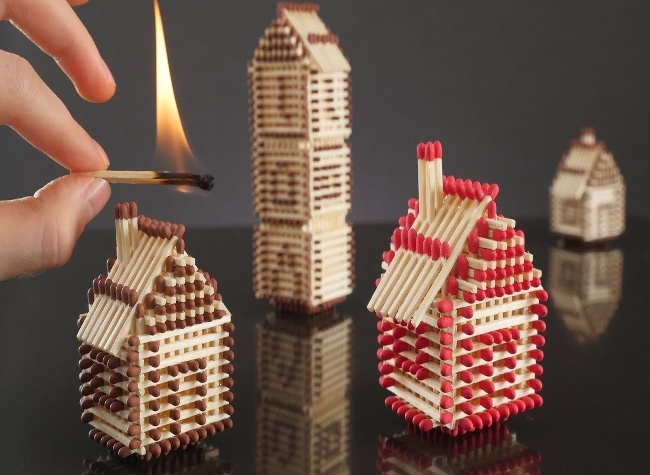Fire: (147, 2, 219, 169)
